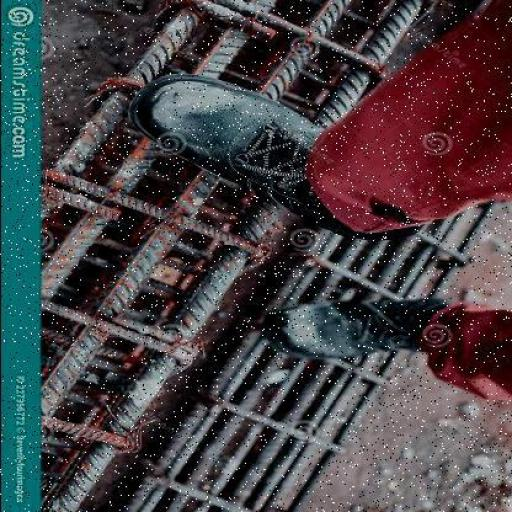safety_shoe: (134, 76, 417, 236), (272, 294, 454, 360)
